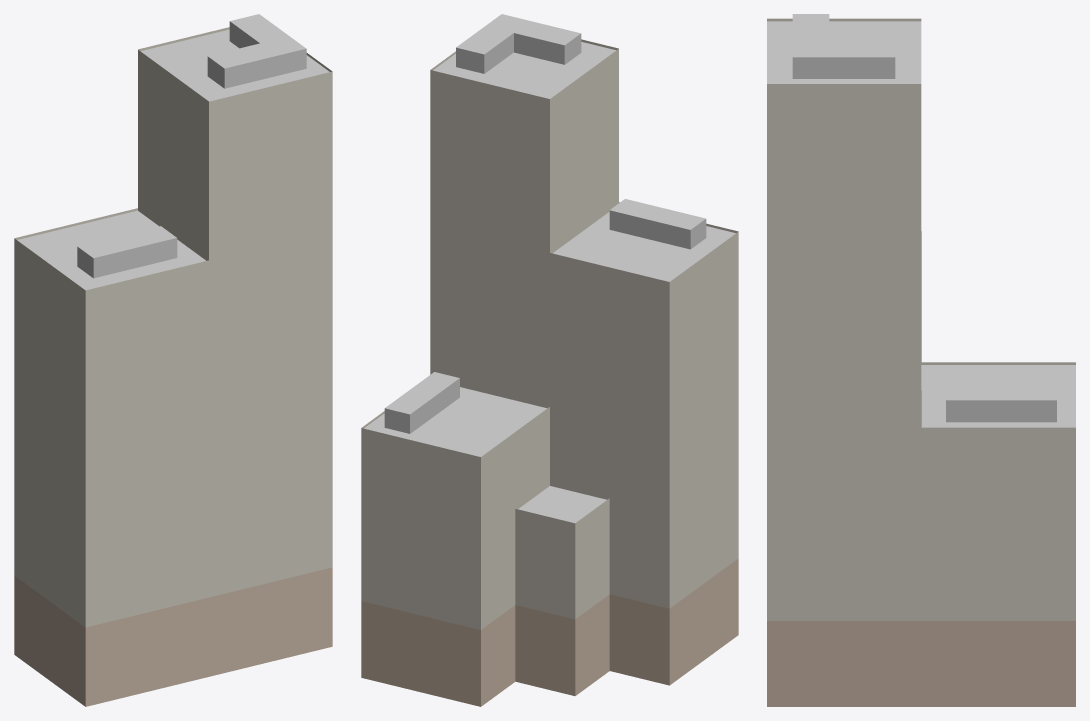
3 renders of one model, left to right at view 1: azimuth 30°, elevation 25°; view 2: azimuth 150°, elevation 25°; view 3: azimuth 270°, elevation 25°, orthographic. The views are drawn at different scales.
Parts seen in each view (by area): view 1: Object_8, Object_9, Object_5, Object_3, Object_4, Object_2; view 2: Object_8, Object_9, Object_6, Object_5, Object_3, Object_4, Object_2, Object_1, Object_7; view 3: Object_8, Object_9, Object_6, Object_4, Object_3, Object_1.
Part boxes in pixels (x1,y1,x2,y2): Object_8: [14, 27, 332, 627]; Object_9: [14, 567, 332, 706]; Object_5: [17, 210, 205, 290]; Object_3: [207, 14, 306, 88]; Object_4: [141, 29, 329, 101]; Object_2: [77, 226, 177, 278]; Object_8: [361, 39, 738, 629]; Object_9: [361, 558, 738, 706]; Object_6: [364, 387, 546, 456]; Object_5: [553, 212, 735, 281]; Object_3: [456, 14, 581, 73]; Object_4: [433, 42, 615, 98]; Object_2: [609, 199, 706, 249]; Object_1: [384, 372, 459, 433]; Object_7: [518, 486, 606, 523]; Object_8: [767, 18, 1075, 620]; Object_9: [767, 621, 1075, 706]; Object_6: [921, 365, 1075, 427]; Object_4: [767, 21, 921, 83]; Object_3: [792, 14, 895, 78]; Object_1: [946, 386, 1056, 422].
Bounding box in the file's own units: 1283 × 1283 × 2942.
